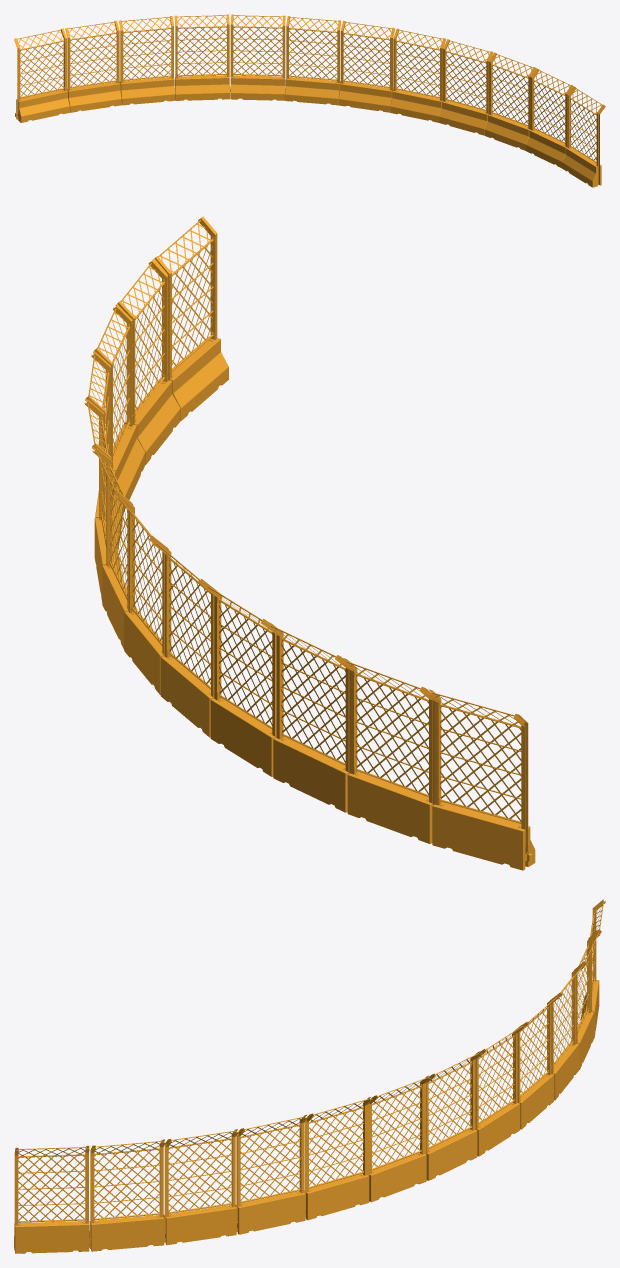
Rendered from SM_Fence_Road_Debrisguard_Net_20m_Corner_Inner.fbx.
3 renders of one model, top to bottom at view 1: azimuth 30°, elevation 25°; view 2: azimuth 150°, elevation 25°; view 3: azimuth 270°, elevation 25°, orthographic. The views are drawn at different scales.
Parts seen in each view (by area): view 1: SM_Fence_Road_Debrisguard_Net_20m_Corner_Inner; view 2: SM_Fence_Road_Debrisguard_Net_20m_Corner_Inner; view 3: SM_Fence_Road_Debrisguard_Net_20m_Corner_Inner.
Boxes of the visible parts, x1,y1,x2,y2 form: SM_Fence_Road_Debrisguard_Net_20m_Corner_Inner: (14,14,605,187); SM_Fence_Road_Debrisguard_Net_20m_Corner_Inner: (84,216,535,870); SM_Fence_Road_Debrisguard_Net_20m_Corner_Inner: (14,899,605,1253).
Bounding box in the file's own units: 19.46 × 3.89 × 19.35.
